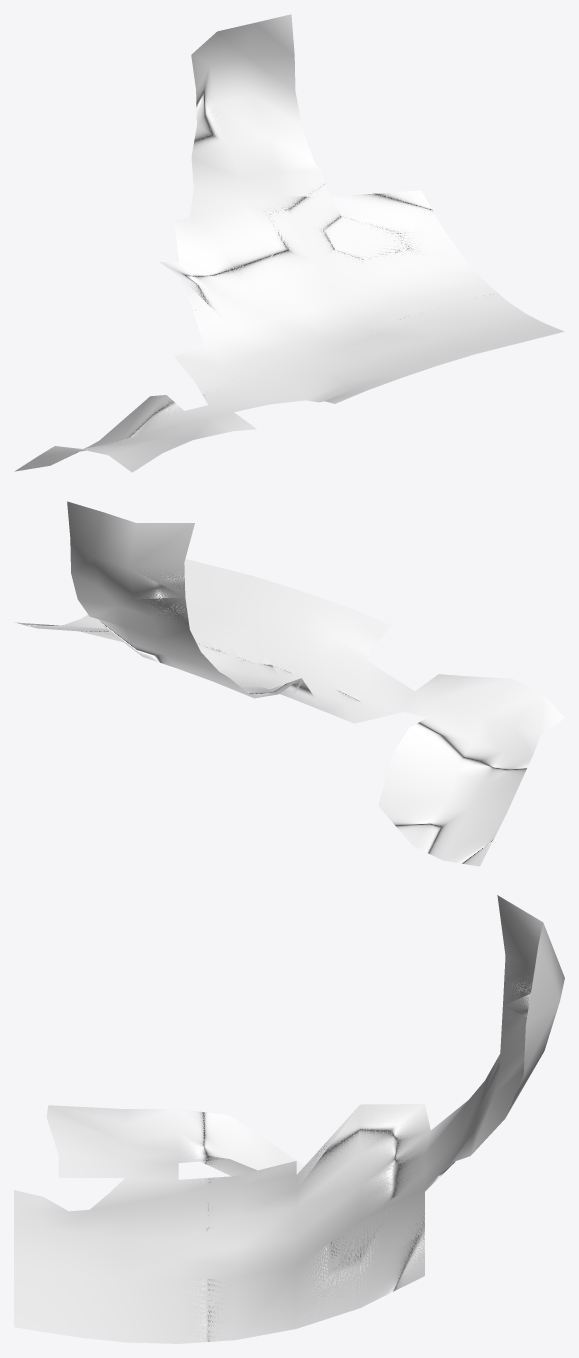
File: azjol_webfloor_01.obj
3 views of the same model, one above another, from view 1: azimuth 30°, elevation 25°; view 2: azimuth 150°, elevation 25°; view 3: azimuth 270°, elevation 25° (orthographic). The views are drawn at different scales.
Visible parts, largest first — view 1: azjol_webfloor_01; view 2: azjol_webfloor_01; view 3: azjol_webfloor_01.
Boxes of the visible parts, <box> form: azjol_webfloor_01: <box>14,14,564,472</box>; azjol_webfloor_01: <box>14,501,564,866</box>; azjol_webfloor_01: <box>14,895,564,1343</box>.
Size of the model in its own units: 172 by 124 by 132.
Materials: 1 (1 with a texture image).
